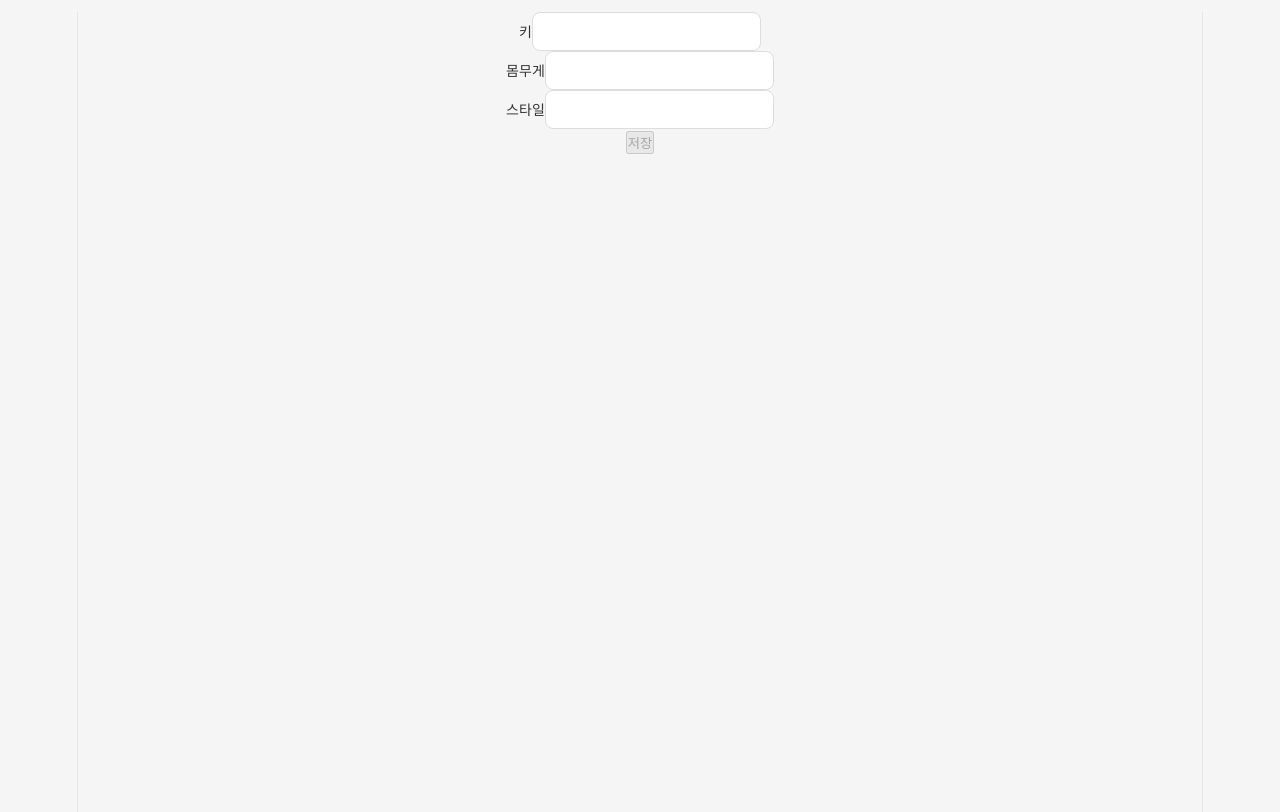
UserProfileForm › TC-18: 몸무게가 0kg이면 오류 메시지를 표시한다
Type "0" into the number field labelled "몸무게" at point(660, 70), box [545, 51, 774, 90]
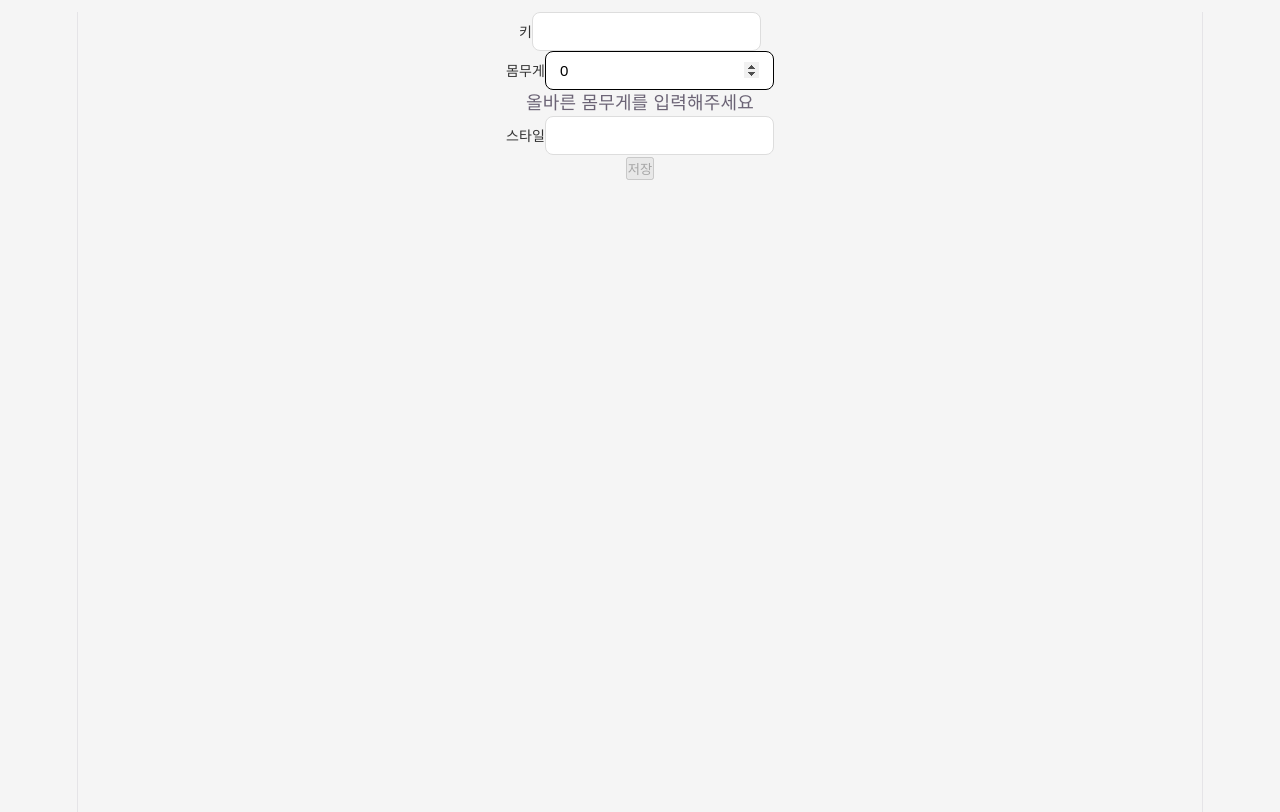
Result: the text "올바른 몸무게를 입력해주세요" is shown at [526, 93, 754, 113]
